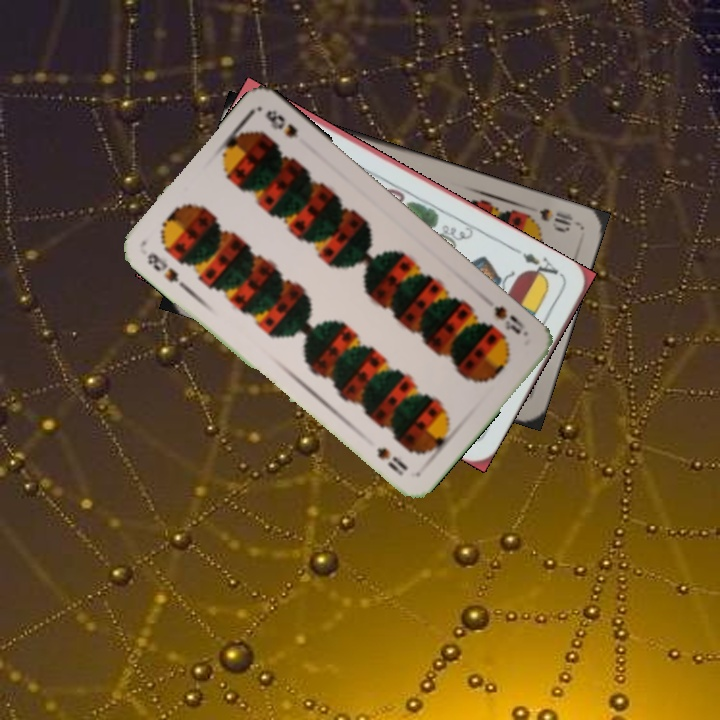EA: (518, 248, 566, 286)
S10: (535, 204, 576, 235)
S8: (143, 249, 182, 285), (490, 302, 528, 337)
